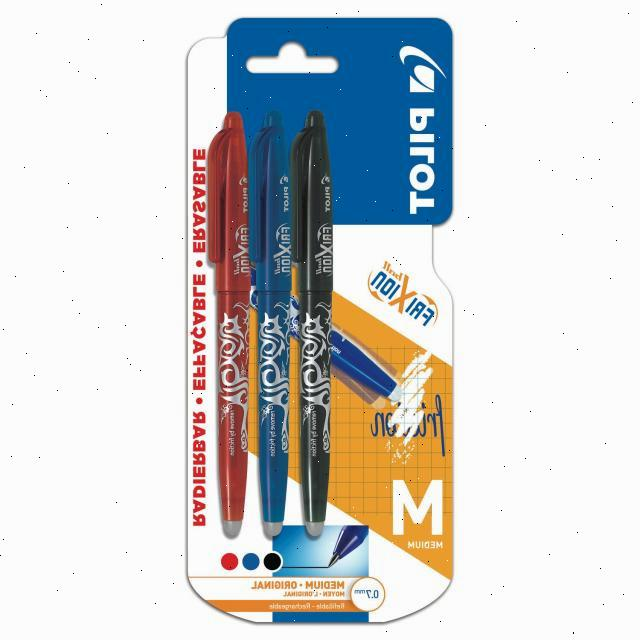pen: (206, 112, 251, 540), (250, 115, 292, 538), (303, 112, 333, 541)
